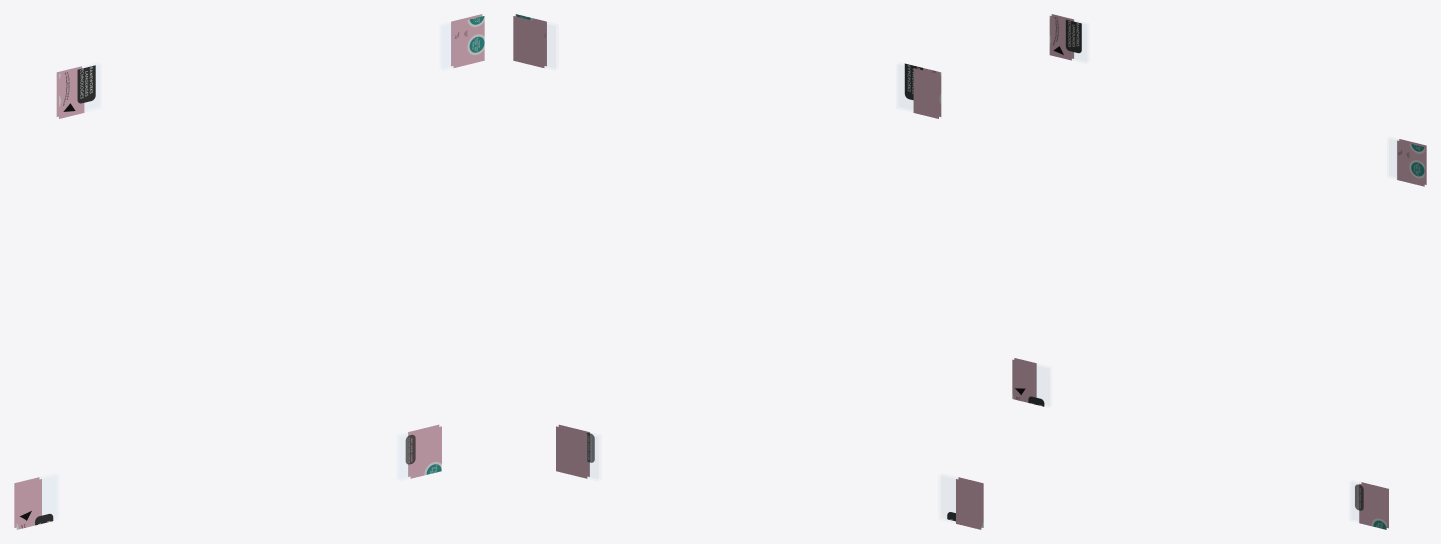
Rendered from panel-4.gltf.
The picture shows the model from 3 angles, left to right: view 1: azimuth 30°, elevation 25°; view 2: azimuth 150°, elevation 25°; view 3: azimuth 330°, elevation 25°; orthographic projection. The views are drawn at different scales.
Visible parts, largest first — view 1: Cube.002_cell.007, Cube.002_cell, Cube.002_cell.006, Cube.002_cell.003; view 2: Cube.002_cell, Cube.002_cell.007, Cube.002_cell.006, Cube.002_cell.003; view 3: Cube.002_cell, Cube.002_cell.007, Cube.002_cell.006, Cube.002_cell.003.
Boxes of the visible parts, bbox=[...] form: Cube.002_cell.007: bbox=[56, 65, 95, 118]; Cube.002_cell: bbox=[405, 424, 441, 478]; Cube.002_cell.006: bbox=[451, 14, 484, 68]; Cube.002_cell.003: bbox=[14, 477, 53, 529]; Cube.002_cell: bbox=[556, 424, 594, 478]; Cube.002_cell.007: bbox=[904, 63, 941, 118]; Cube.002_cell.006: bbox=[513, 14, 546, 68]; Cube.002_cell.003: bbox=[947, 477, 983, 529]; Cube.002_cell: bbox=[1354, 482, 1388, 529]; Cube.002_cell.007: bbox=[1049, 14, 1081, 60]; Cube.002_cell.006: bbox=[1397, 139, 1426, 186]; Cube.002_cell.003: bbox=[1012, 358, 1044, 406].
Size of the model in its own units: 10.9 by 10.92 by 0.1.
Materials: 1 (1 with a texture image).
